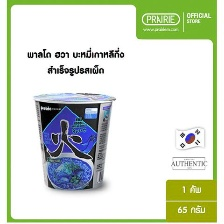paper_cup: (29, 89, 118, 193)
